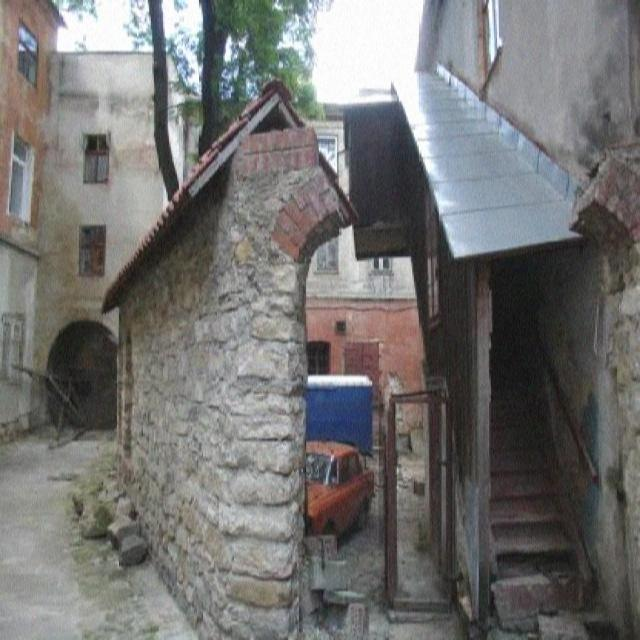stair: (489, 238, 597, 638)
